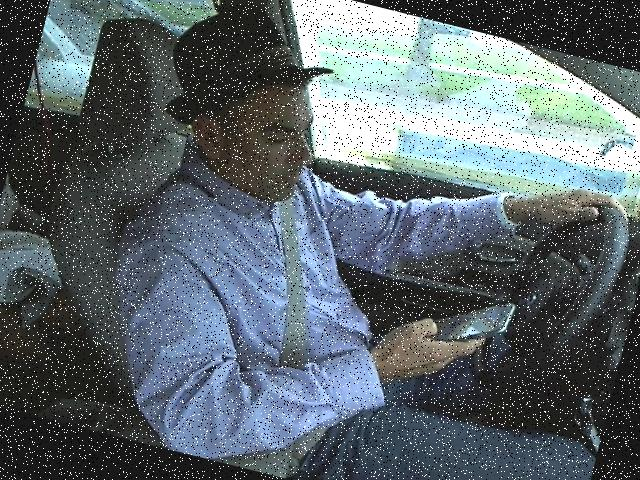c1 - Texting: (73, 0, 639, 479)
